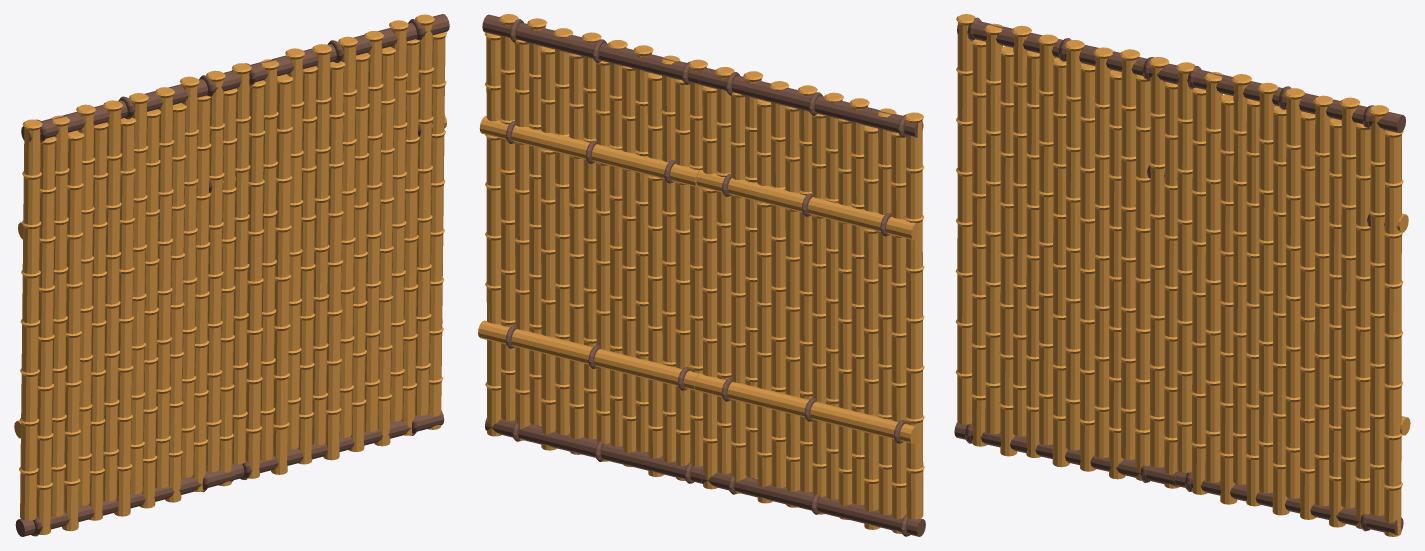
Rendered from bamboo.glb.
The picture shows the model from 3 angles, left to right: view 1: azimuth 30°, elevation 25°; view 2: azimuth 150°, elevation 25°; view 3: azimuth 330°, elevation 25°; orthographic projection. The views are drawn at different scales.
Parts seen in each view (by area): view 1: Node; view 2: Node; view 3: Node.
Boxes of the visible parts, x1,y1,x2,y2 form: Node: [14, 14, 449, 536]; Node: [478, 14, 925, 536]; Node: [954, 14, 1410, 536].
Size of the model in its own units: 3.28 by 3.07 by 0.2991.
